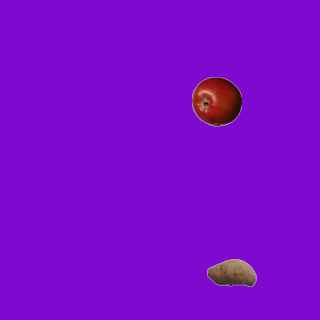Apple Braeburn: (191, 76, 241, 126)
Potato Sweet: (206, 247, 256, 297)
